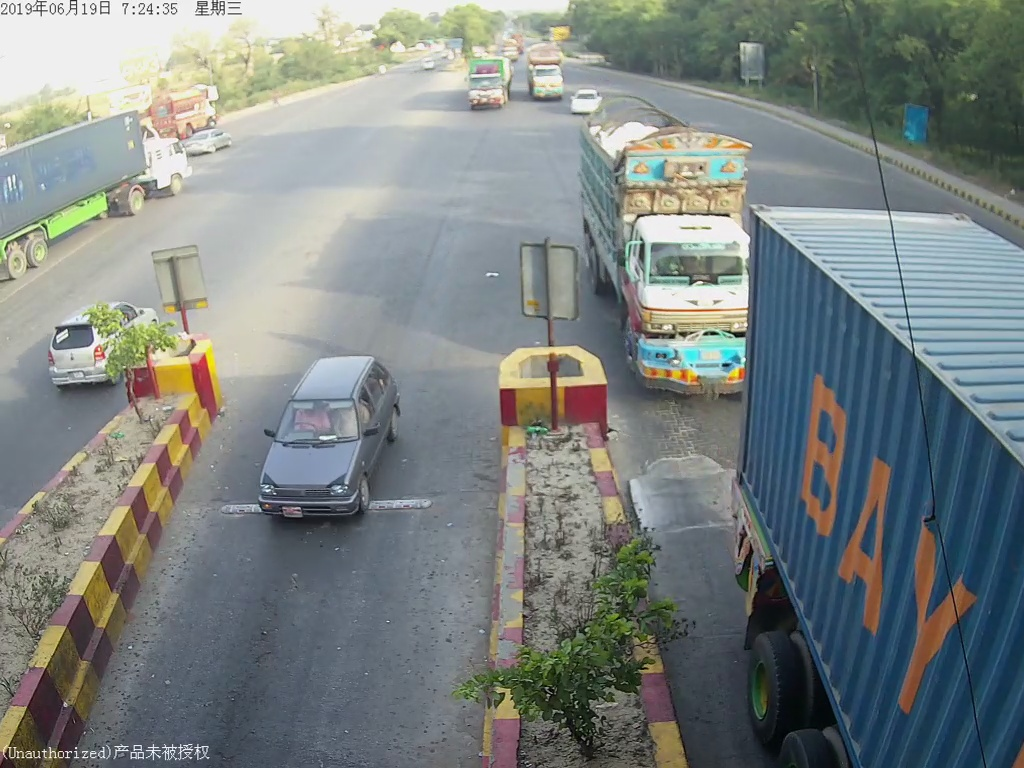Cat-1: (259, 347, 407, 538)
Cat-4: (583, 98, 745, 397)
